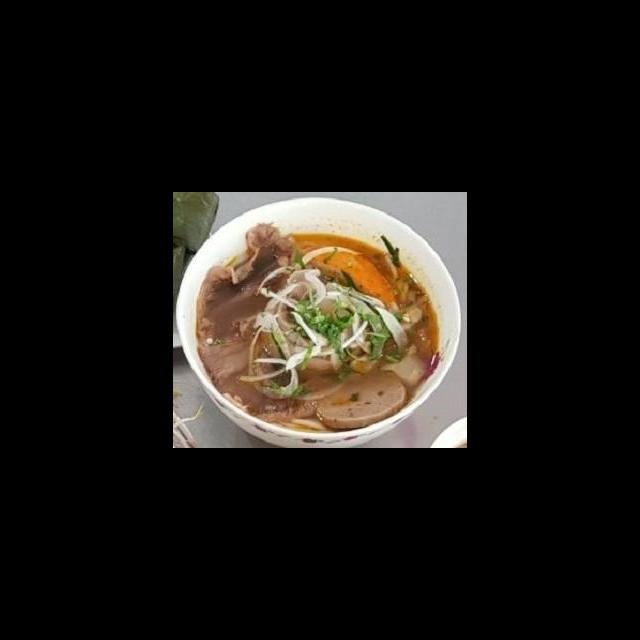thit bo: (193, 312, 320, 423), (193, 214, 299, 345)
